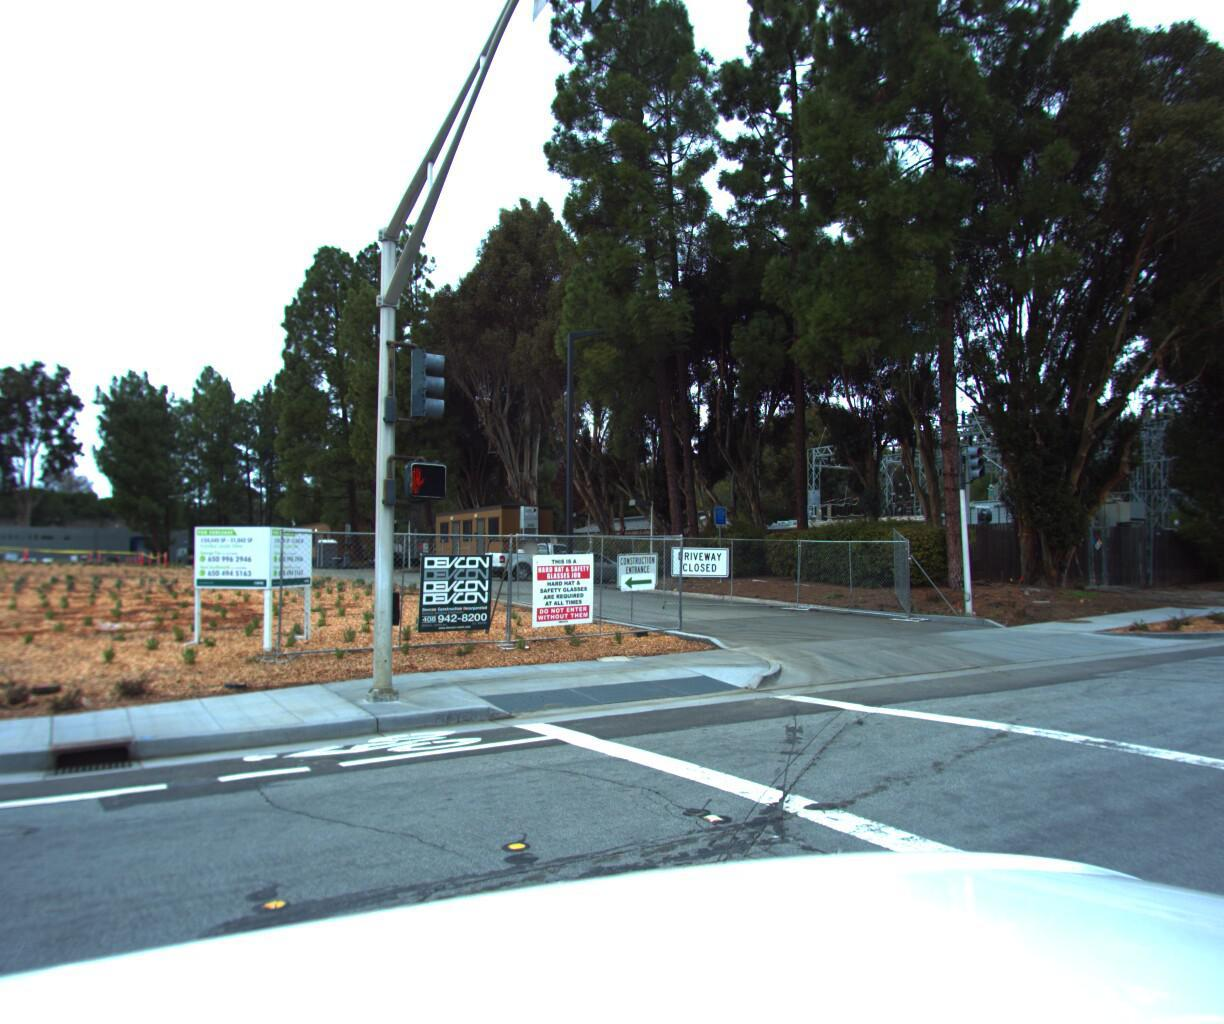car: (480, 530, 602, 578)
